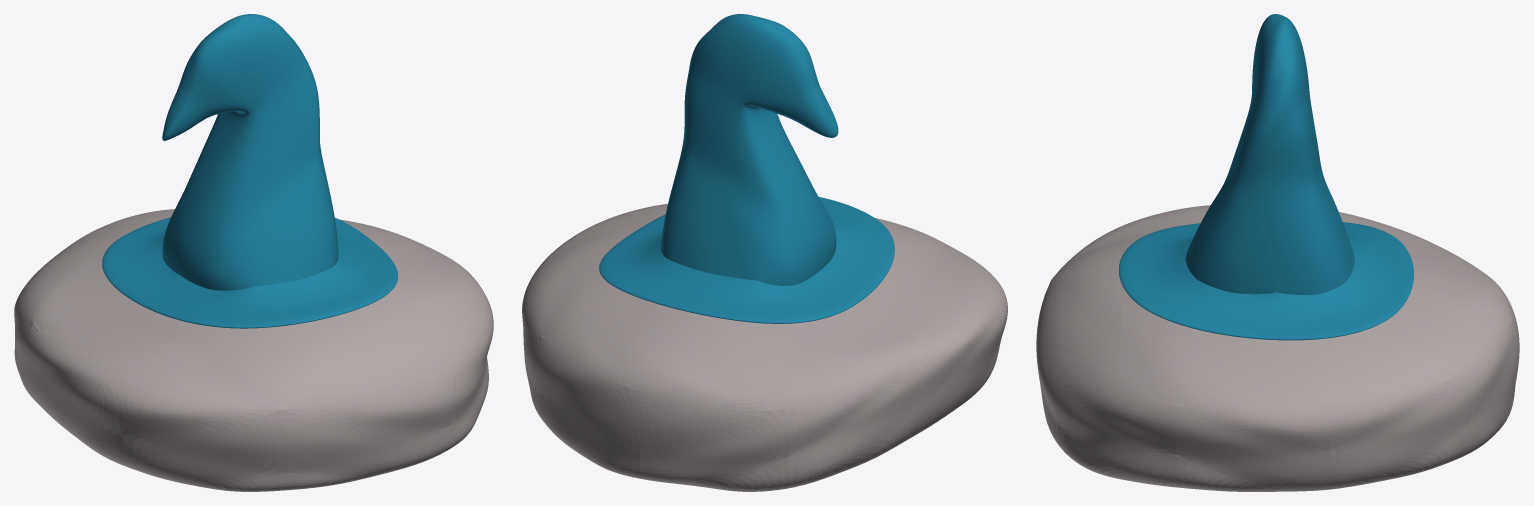
The model's file is White Piece.fbx.
3 views of the same model, side by side, from view 1: azimuth 30°, elevation 25°; view 2: azimuth 150°, elevation 25°; view 3: azimuth 270°, elevation 25° (orthographic).
Visible parts, largest first — view 1: White Piece, Model; view 2: White Piece, Model; view 3: White Piece, Model.
Boxes of the visible parts, x1=… form: White Piece: x1=14, y1=209, x2=493, y2=491; Model: x1=102, y1=14, x2=397, y2=328; White Piece: x1=522, y1=204, x2=1007, y2=491; Model: x1=599, y1=14, x2=894, y2=323; White Piece: x1=1036, y1=205, x2=1519, y2=491; Model: x1=1119, y1=14, x2=1413, y2=340.
Bounding box in the file's own units: 92.41 × 84.45 × 92.31.
